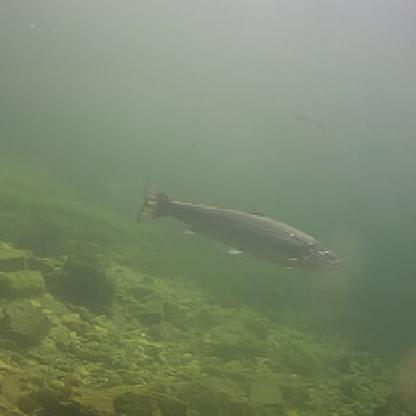salmon: (125, 178, 346, 281)
